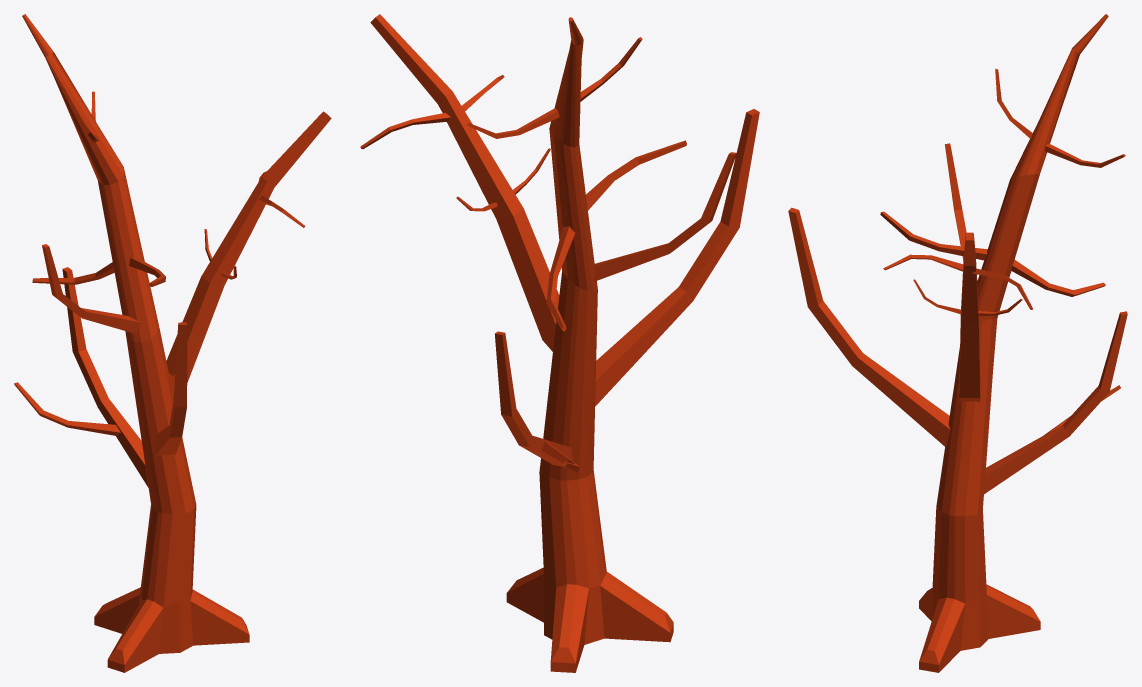
The model's file is tree3.obj.
3 views of the same model, side by side, from view 1: azimuth 30°, elevation 25°; view 2: azimuth 150°, elevation 25°; view 3: azimuth 270°, elevation 25° (orthographic). The views are drawn at different scales.
Parts seen in each view (by area): view 1: _11_tree; view 2: _11_tree; view 3: _11_tree.
Part boxes in pixels (x1=…): _11_tree: x1=14, y1=14, x2=331, y2=672; _11_tree: x1=360, y1=14, x2=759, y2=672; _11_tree: x1=788, y1=14, x2=1127, y2=672.
Size of the model in its own units: 1.09 by 2.06 by 1.07.
